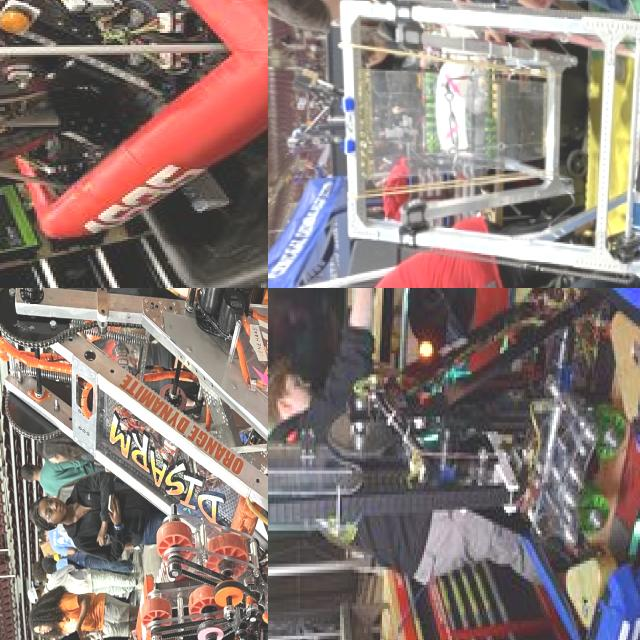FRC-Robots: (268, 288, 640, 640), (269, 0, 640, 288), (0, 288, 268, 640), (0, 0, 268, 244)
